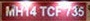character: (5, 5, 14, 16), (47, 5, 55, 17), (15, 5, 23, 16), (29, 5, 37, 16), (39, 5, 47, 16), (54, 5, 61, 16), (71, 5, 78, 16), (77, 5, 84, 16), (24, 5, 30, 16), (64, 5, 70, 16)
